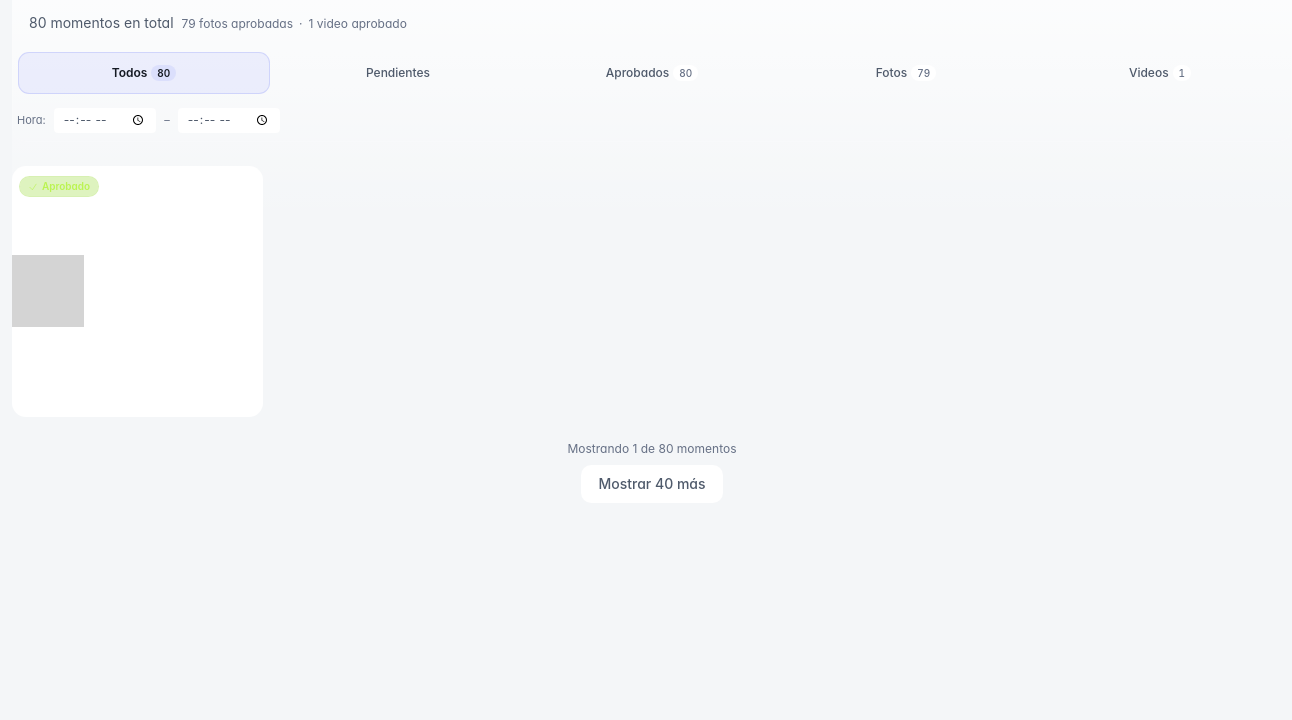
MomentsWall — media type filters › loads the next page instead of showing an empty state when the selected filter has remote results
Click the button "Videos1" at [1160, 73], box [1035,53,1285,93]
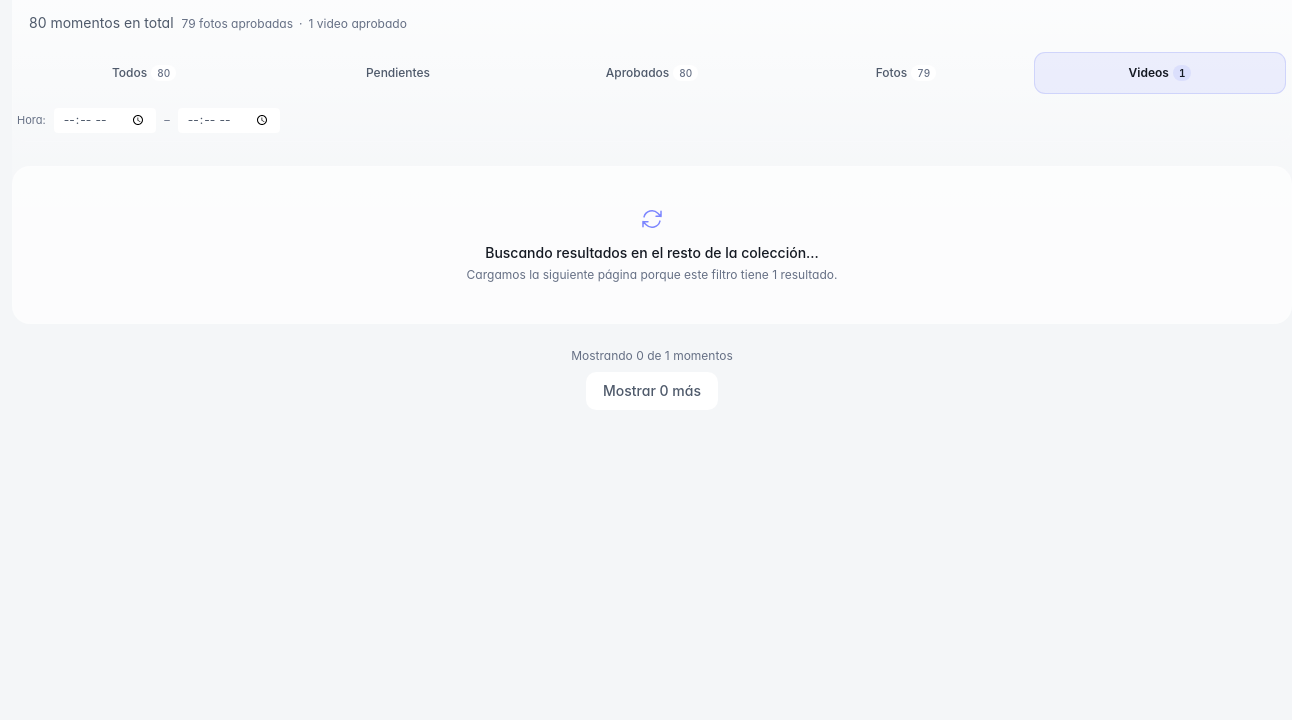
Check: the message shows "Buscando resultados", box [485,244,819,261]
